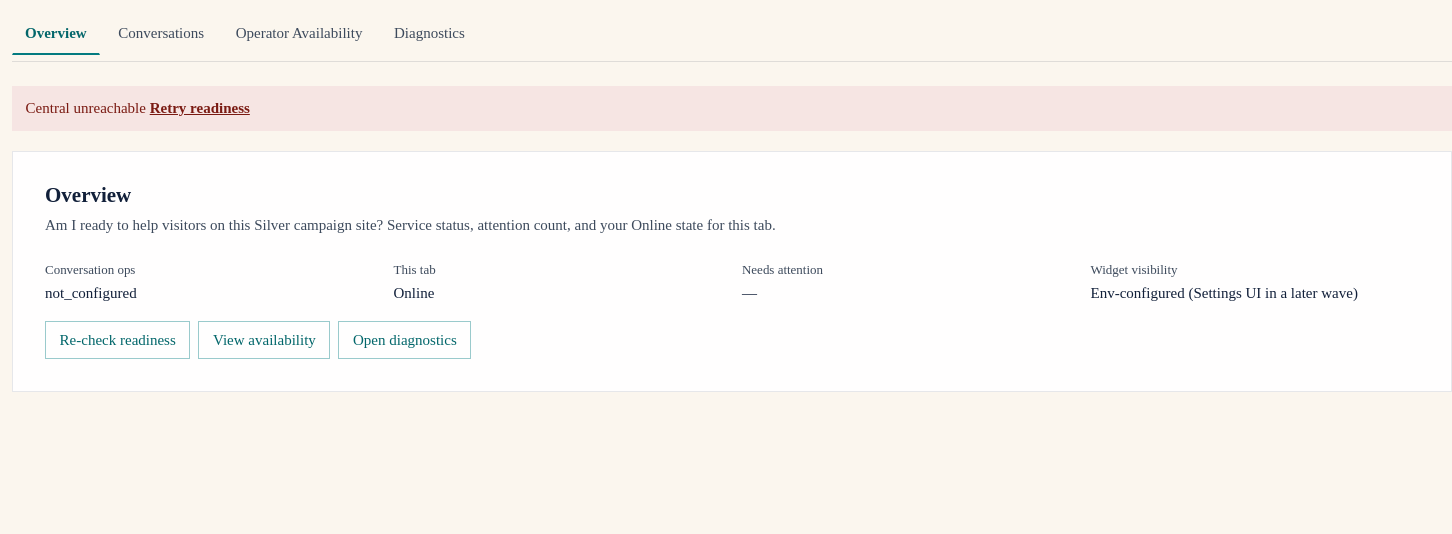
Test case: OperatorConsole WS-5 IA › wires diagnostics and recovers from readiness failures
Expected: the message shows "unreachable", [26, 100, 146, 116]
Click the button "Retry readiness" at (200, 108), box [150, 98, 250, 119]
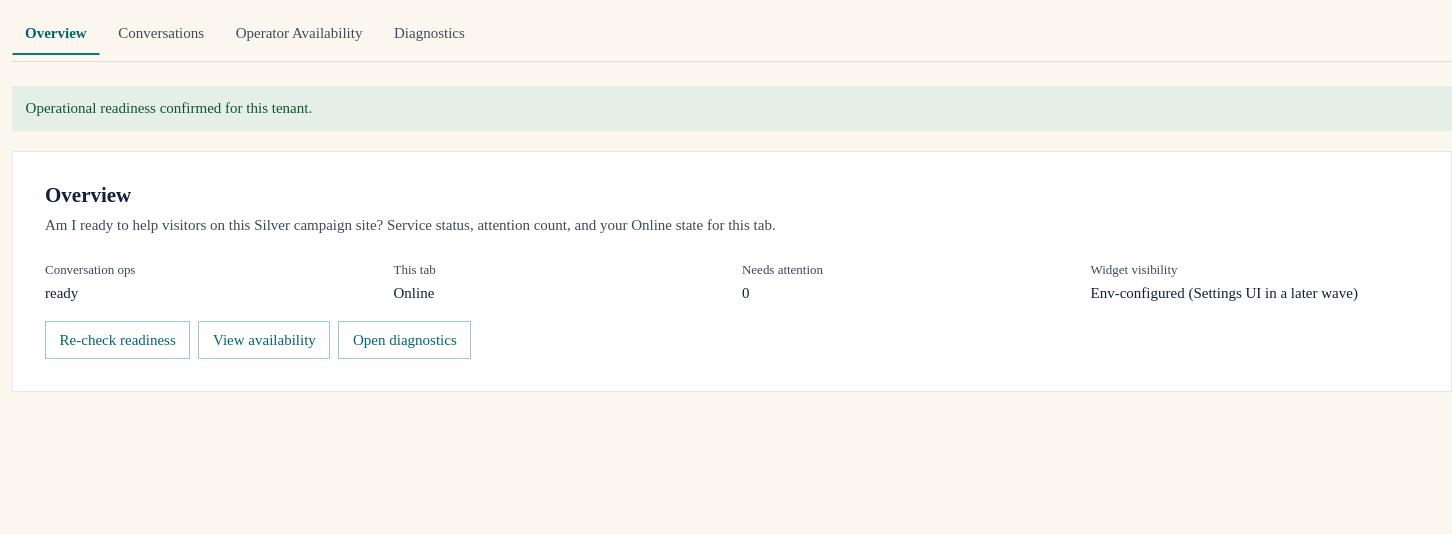
Now the message shows "readiness confirmed", box [26, 100, 312, 116]
Click the tab "Diagnostics" at (429, 34), box [381, 12, 478, 55]
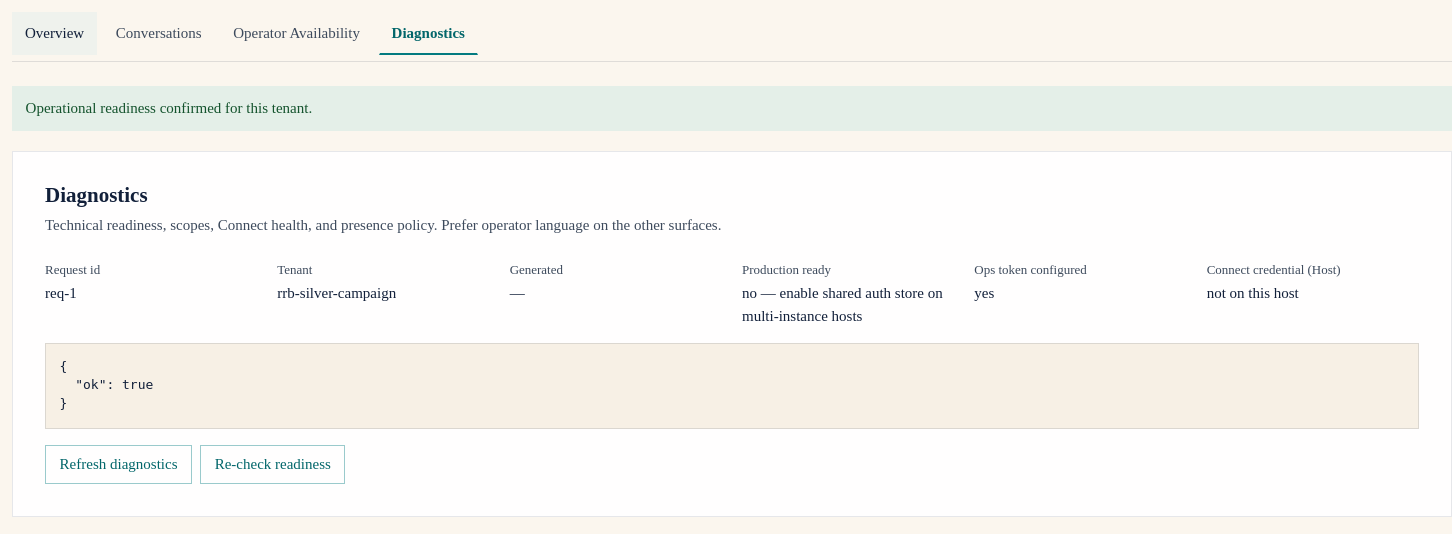
Now the text "rrb-silver-campaign" is shown, box [277, 285, 396, 301]
Now the text "req-1" is shown, box [45, 285, 77, 301]
